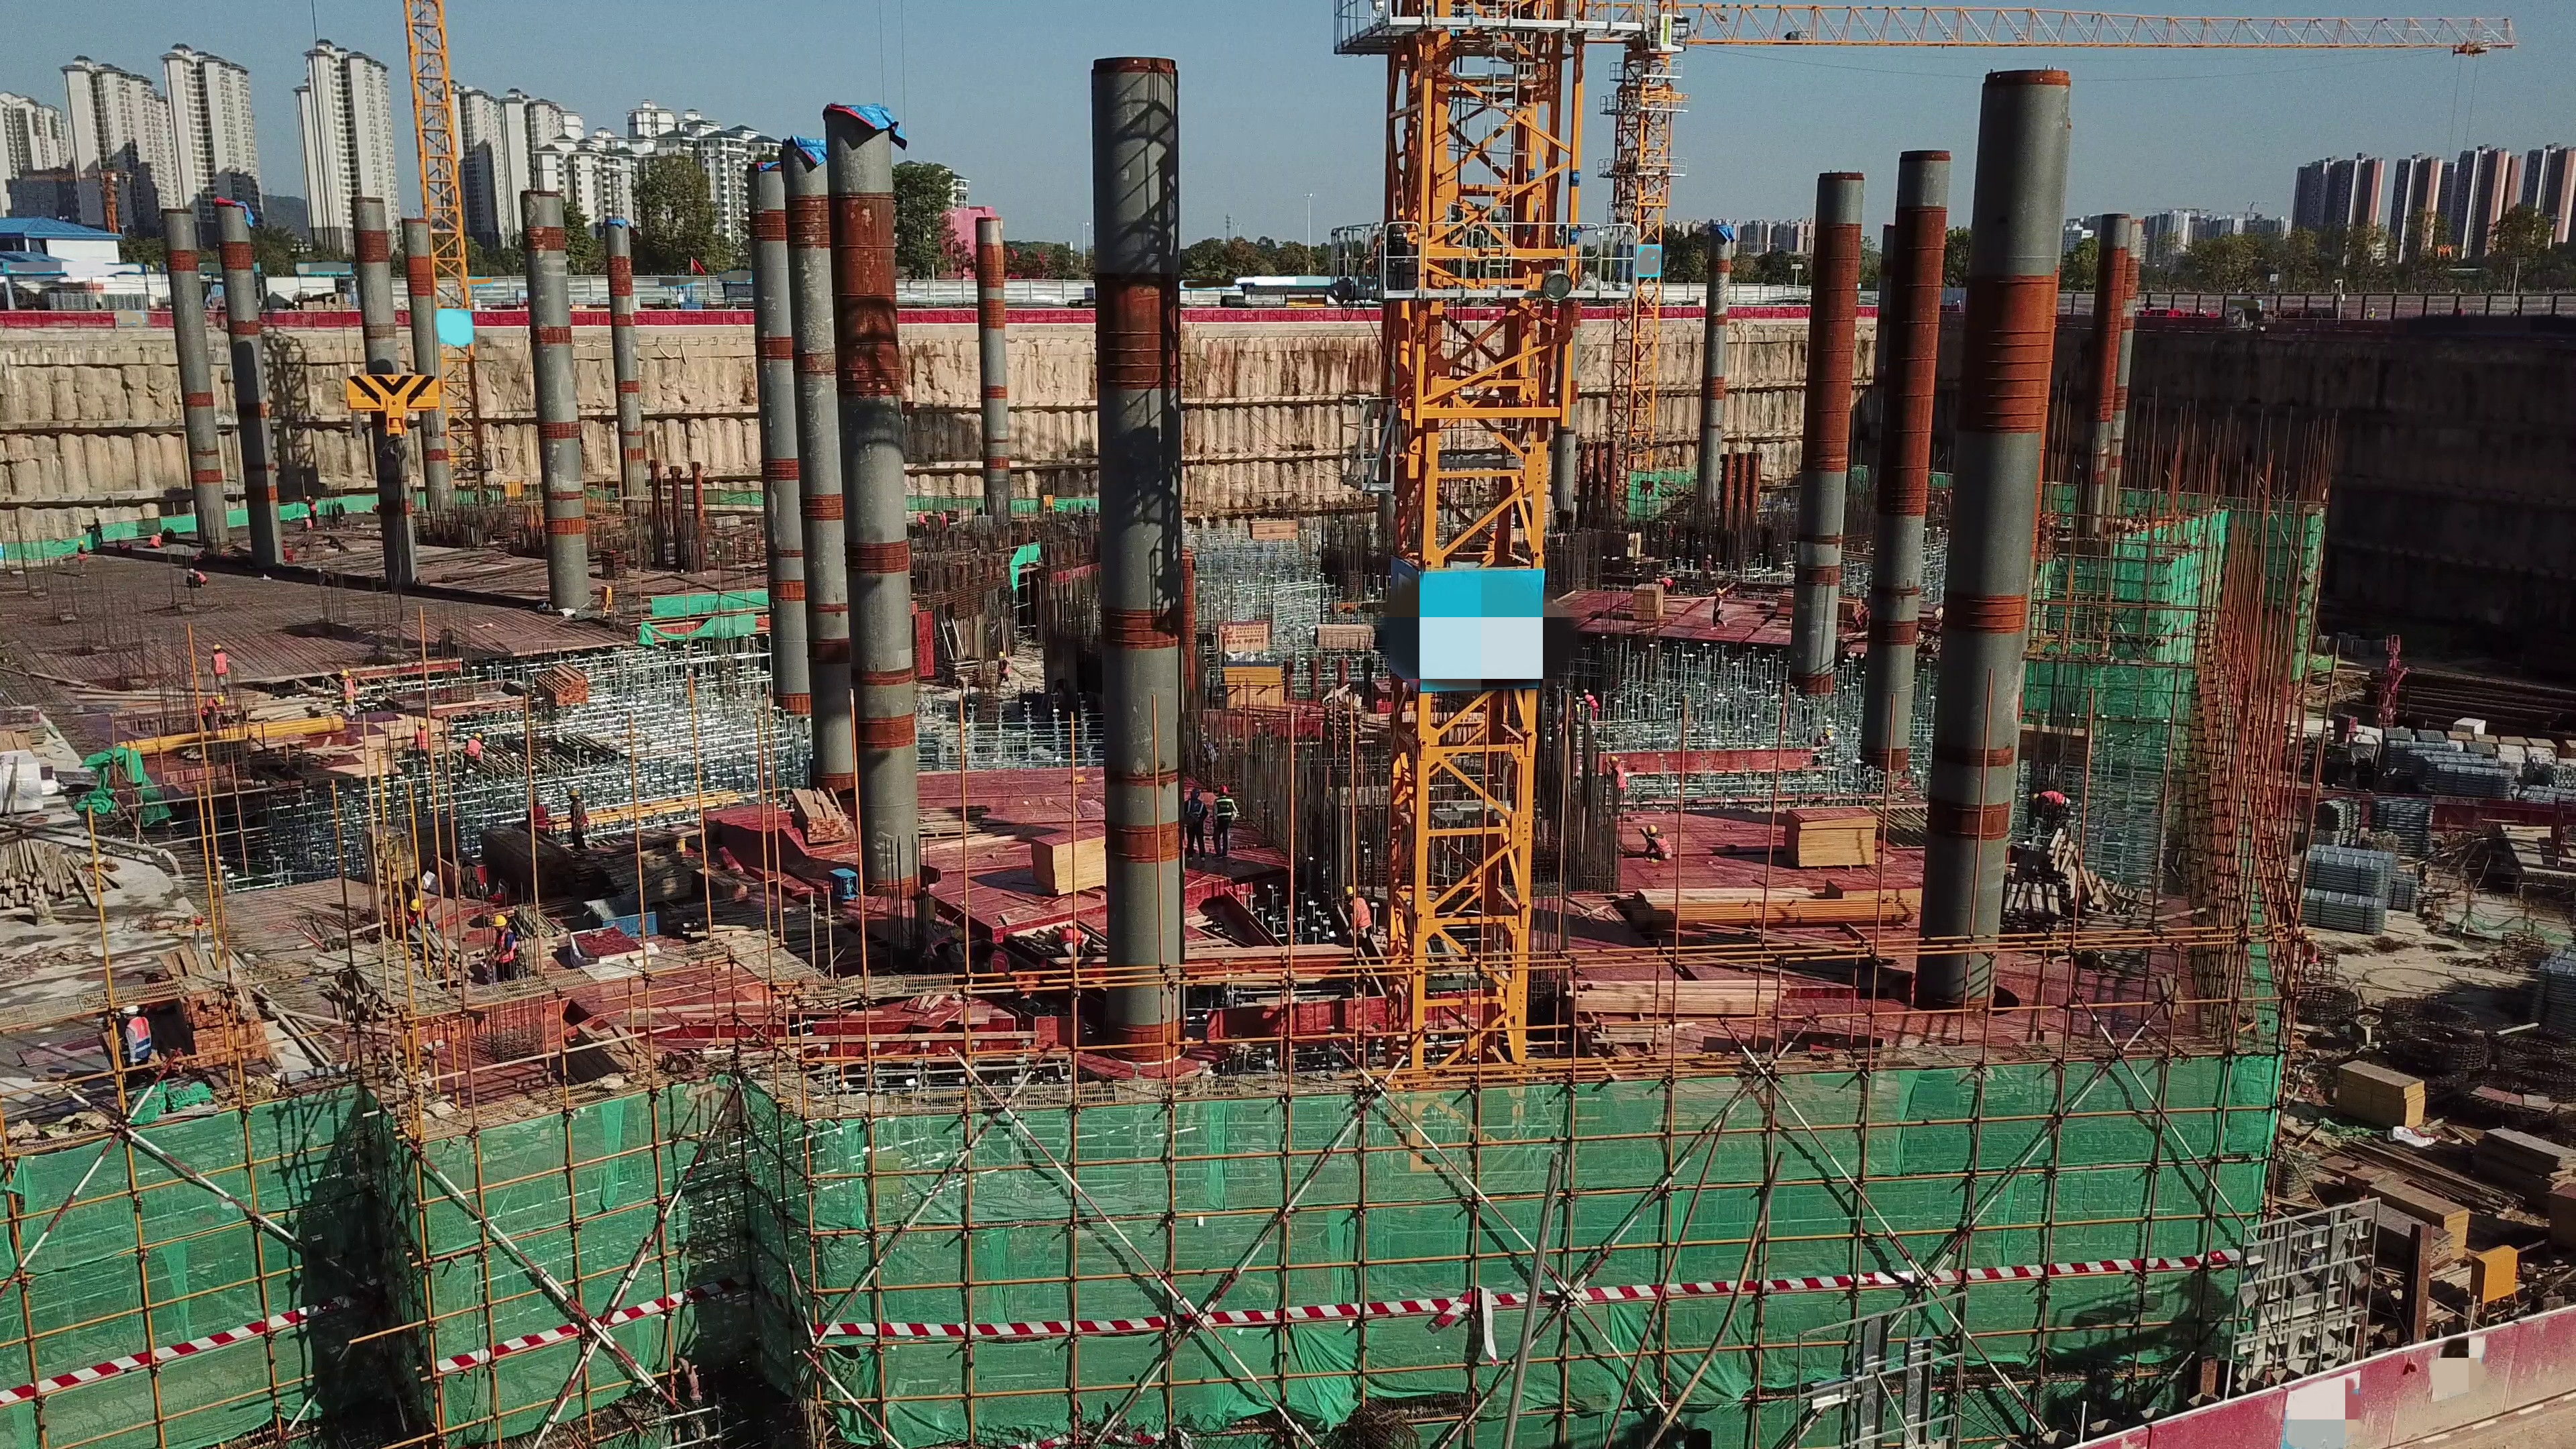board: (1784, 806, 1876, 873), (1030, 824, 1107, 896), (1634, 583, 1662, 621)
ebox: (2473, 1245, 2516, 1303)
helmet: (120, 1001, 138, 1018), (492, 913, 506, 928), (408, 898, 419, 912), (1645, 823, 1658, 836), (1345, 885, 1353, 896), (569, 787, 580, 796)
hook: (344, 365, 449, 461), (2436, 243, 2453, 264)
person: (1181, 787, 1208, 863), (1212, 785, 1238, 860), (1344, 885, 1373, 950), (120, 1006, 152, 1065), (490, 914, 515, 981), (460, 733, 486, 784), (1642, 823, 1672, 862), (568, 788, 586, 851), (211, 643, 231, 698), (2029, 790, 2072, 813), (414, 721, 433, 771), (1709, 586, 1728, 634), (200, 696, 225, 730), (339, 669, 356, 724), (1609, 755, 1627, 810), (527, 797, 549, 834), (75, 540, 88, 578), (185, 567, 208, 588), (1584, 688, 1599, 720), (996, 651, 1010, 687), (1654, 577, 1673, 594), (92, 518, 104, 545), (307, 495, 317, 525), (114, 539, 133, 553), (146, 531, 162, 548), (1702, 554, 1713, 581), (301, 514, 312, 533)
scaffold: (2302, 890, 2381, 936), (2310, 854, 2384, 900), (2376, 799, 2433, 857), (2436, 765, 2504, 800), (2314, 843, 2392, 867), (2320, 798, 2361, 830), (2427, 755, 2495, 769), (2392, 879, 2418, 915), (2389, 740, 2410, 773), (2411, 750, 2476, 757)
vest: (129, 1016, 154, 1062), (1213, 795, 1233, 830), (491, 931, 514, 963), (1351, 898, 1371, 932), (1654, 835, 1674, 857), (1187, 797, 1203, 822), (2041, 792, 2065, 806), (531, 808, 547, 832), (215, 653, 229, 678), (466, 739, 479, 763), (1614, 766, 1626, 791), (417, 731, 429, 752)
wood: (2351, 1137, 2522, 1219), (160, 947, 268, 1065), (1572, 979, 1792, 1018), (2372, 1179, 2467, 1261), (2337, 1060, 2426, 1128), (792, 789, 847, 845), (2004, 877, 2059, 933), (533, 662, 589, 706), (1314, 623, 1375, 649), (1250, 521, 1297, 541)
